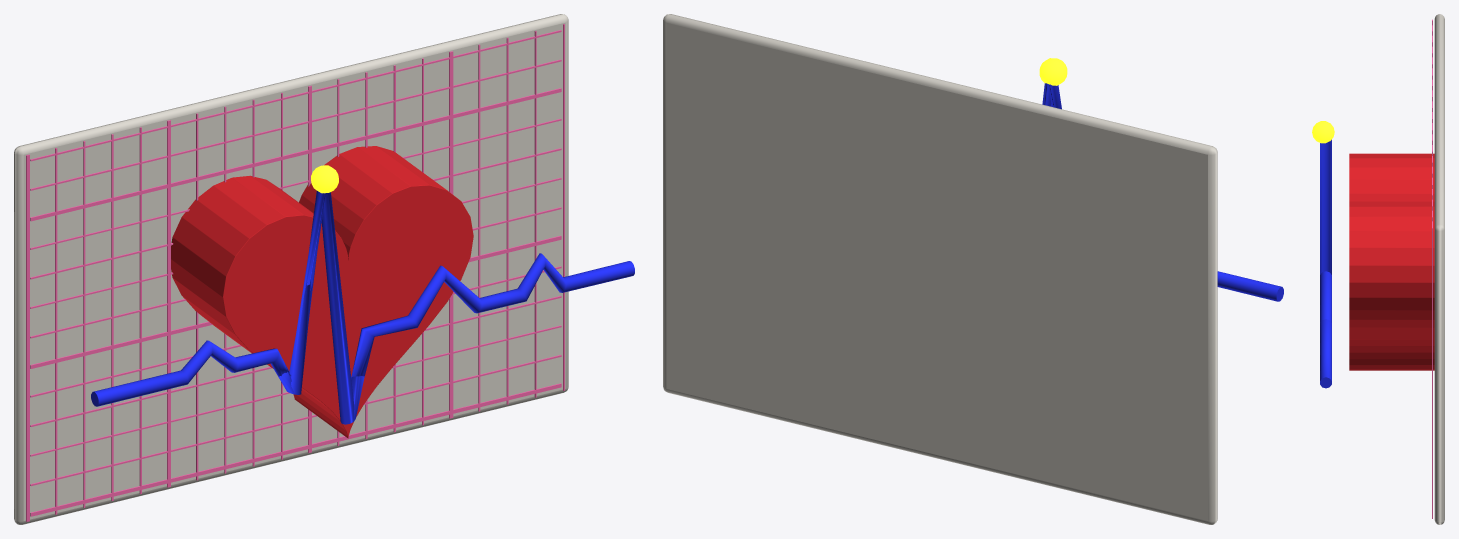
The model's file is heart.glb.
3 views of the same model, side by side, from view 1: azimuth 30°, elevation 25°; view 2: azimuth 150°, elevation 25°; view 3: azimuth 270°, elevation 25° (orthographic). The views are drawn at different scales.
Visible parts, largest first — view 1: paper, pulse_heart, grid, ecg; view 2: paper, ecg; view 3: pulse_heart, paper, ecg, grid, pulse_dot.
Part boxes in pixels (<box>): paper: <box>14,14,568,524</box>; pulse_heart: <box>171,146,473,438</box>; grid: <box>26,24,564,521</box>; ecg: <box>91,191,634,424</box>; paper: <box>663,14,1217,524</box>; ecg: <box>1042,83,1283,301</box>; pulse_heart: <box>1349,153,1434,370</box>; paper: <box>1434,14,1444,524</box>; ecg: <box>1320,139,1331,388</box>; grid: <box>1432,19,1432,518</box>; pulse_dot: <box>1312,121,1334,143</box>.
Bounding box in the file's own units: 9.8 × 6.4 × 2.57.
